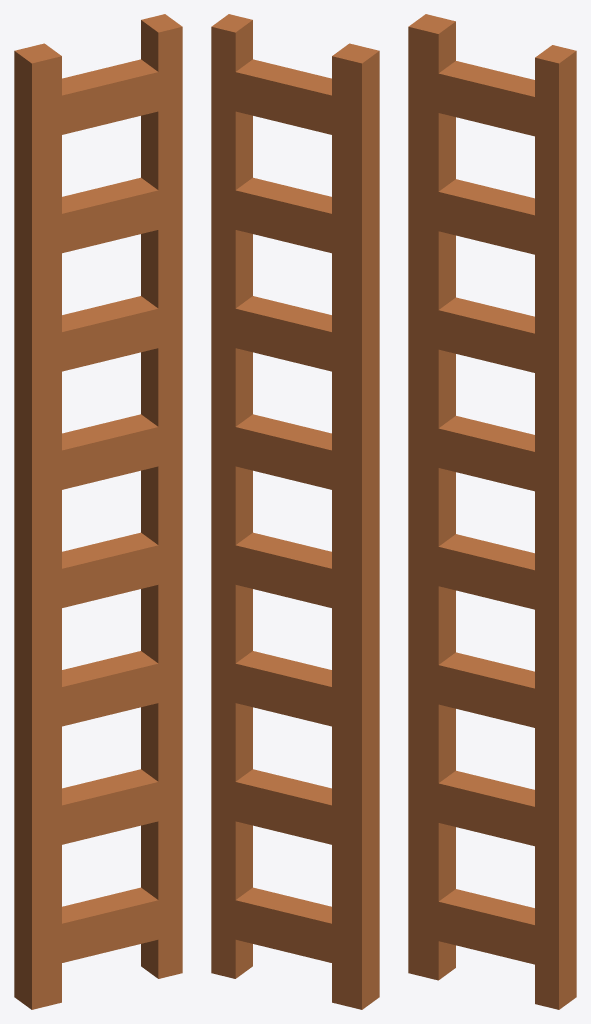
The model's file is Escalera.fbx.
3 views of the same model, side by side, from view 1: azimuth 30°, elevation 25°; view 2: azimuth 150°, elevation 25°; view 3: azimuth 330°, elevation 25° (orthographic).
Visible parts, largest first — view 1: Cube; view 2: Cube; view 3: Cube.
Boxes of the visible parts, x1,y1,x2,y2 form: Cube: (14, 14, 182, 1009); Cube: (211, 14, 379, 1009); Cube: (408, 14, 576, 1009).
Bounding box in the file's own units: 200 × 1200 × 40.
